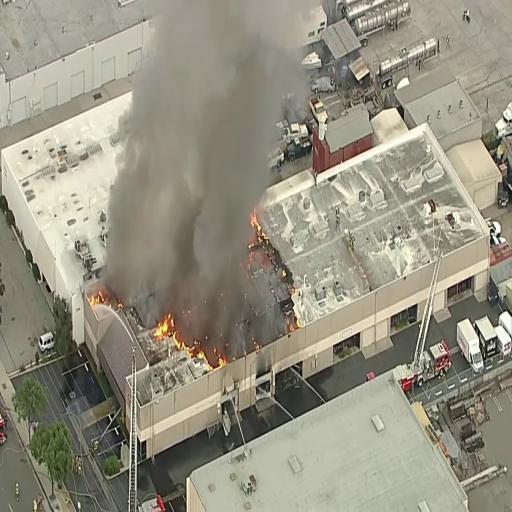smoke: (140, 0, 240, 219)
